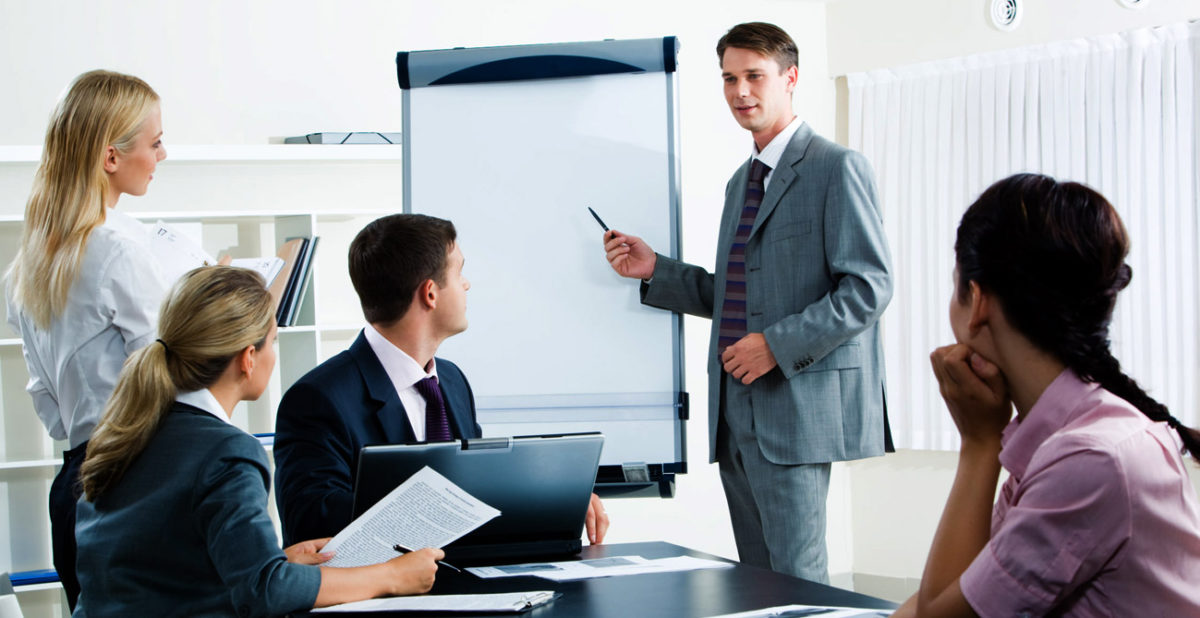Humano: (606, 19, 907, 587), (927, 170, 1200, 606), (75, 261, 334, 618), (278, 206, 514, 449), (1, 63, 169, 334)
